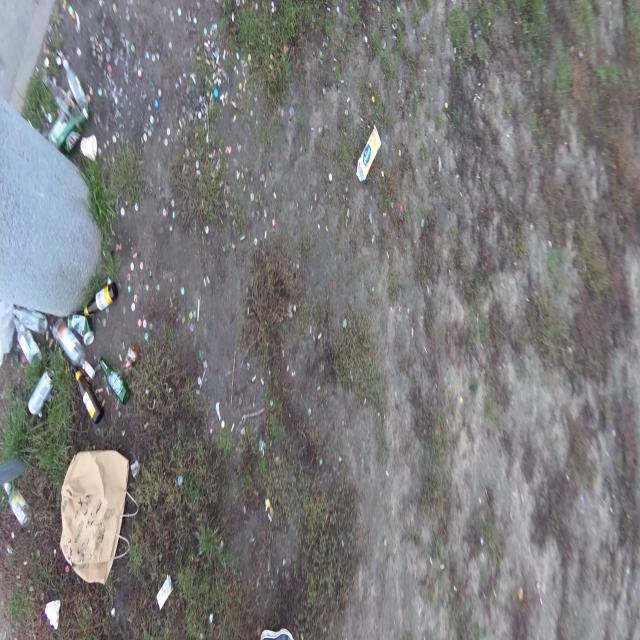rubbish: (59, 449, 130, 585), (50, 317, 97, 381), (57, 101, 91, 154), (62, 53, 90, 115), (74, 367, 105, 423), (100, 355, 132, 405), (355, 124, 382, 183), (15, 316, 42, 367), (28, 368, 57, 415), (4, 482, 32, 528), (82, 281, 117, 315), (12, 309, 49, 332), (47, 110, 71, 145), (69, 314, 96, 344), (121, 341, 140, 379), (156, 574, 174, 611), (43, 599, 61, 630), (80, 134, 99, 158)
